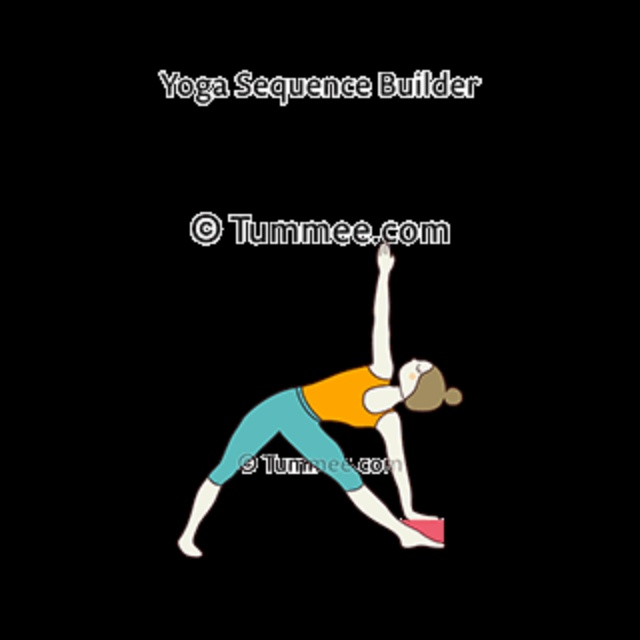Triangle_Pose: (172, 239, 466, 570)
